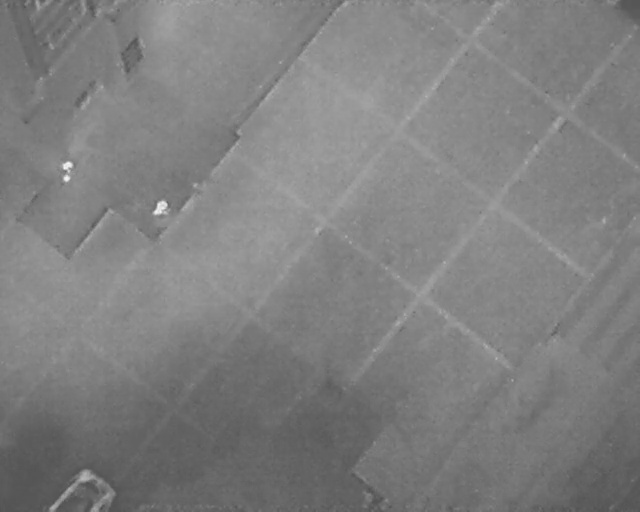Car: (48, 466, 118, 510)
Person: (148, 195, 173, 221), (60, 157, 74, 184)
